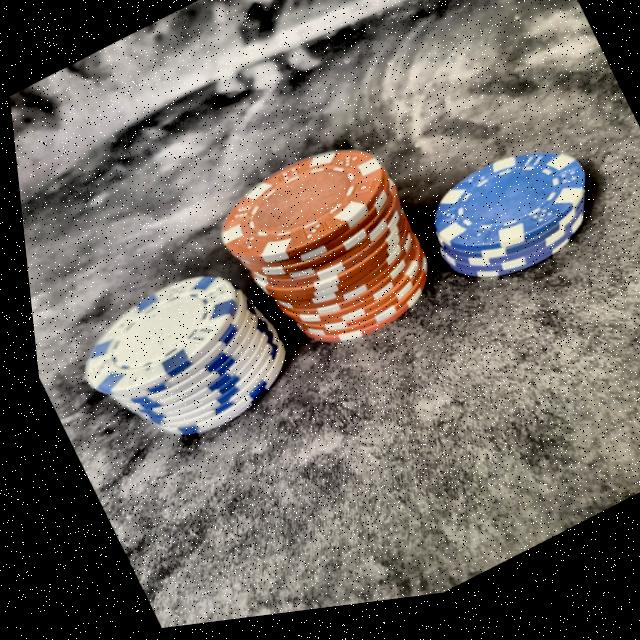Chip: (186, 105, 455, 408), (39, 224, 312, 498), (392, 118, 616, 329)
